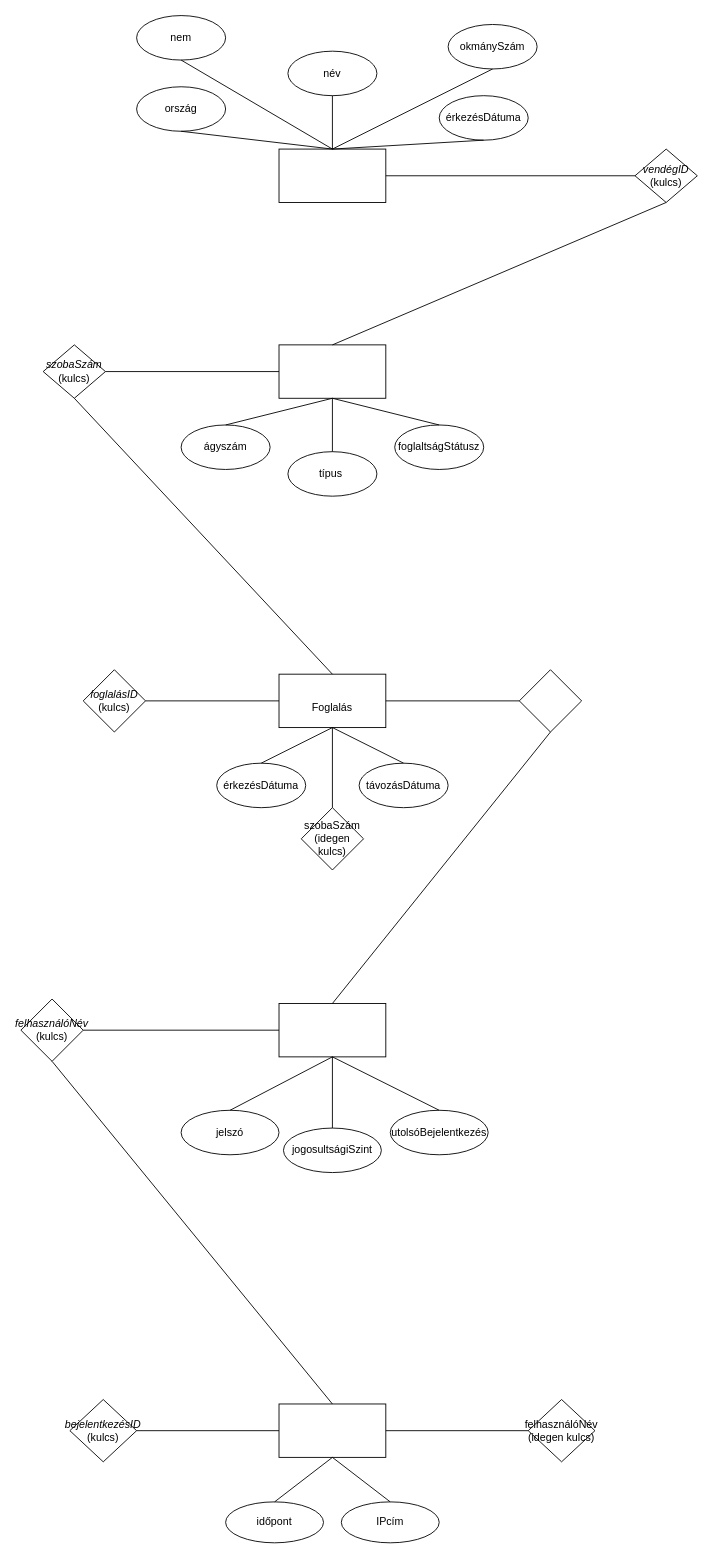
This 713x1558 diagram has some shape labels left out. The shapes that lost their labels are listed below. From the top down, each one's centre as x and y in pixels, then its label:
At pixel 332 175: "Vendég".
At pixel 332 371: "Szoba".
At pixel 550 700: "vendégID (idegen kulcs)".
At pixel 332 1030: "Felhasználó".
At pixel 332 1430: "Bejelentkezés".
